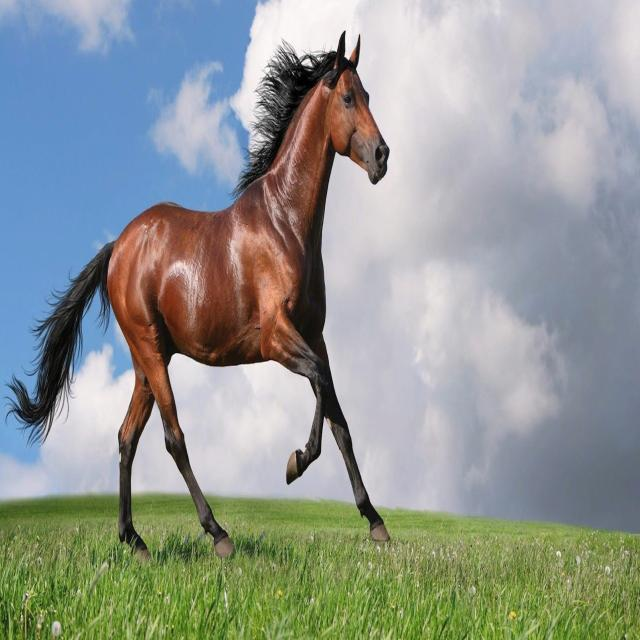Horse: (50, 28, 390, 556)
